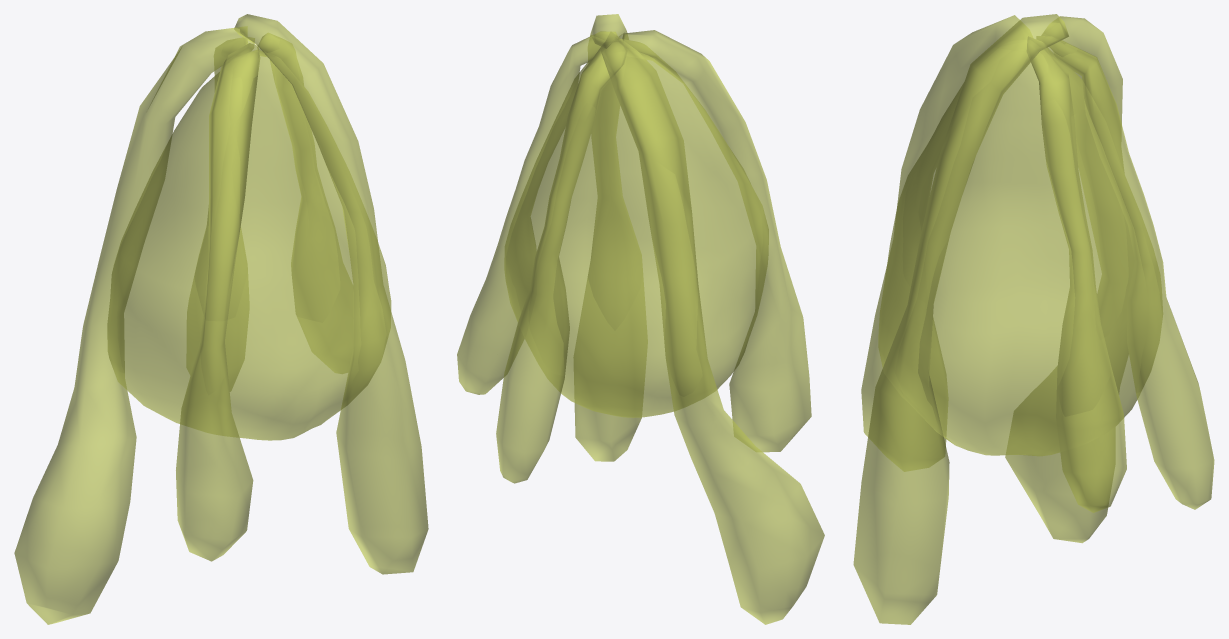
The model's file is Spit.fbx.
3 views of the same model, side by side, from view 1: azimuth 30°, elevation 25°; view 2: azimuth 150°, elevation 25°; view 3: azimuth 270°, elevation 25° (orthographic). The views are drawn at different scales.
Visible parts, largest first — view 1: babas.001; view 2: babas.001; view 3: babas.001.
Part boxes in pixels (x1,y1,x2,y2): babas.001: [14, 14, 428, 624]; babas.001: [457, 14, 824, 624]; babas.001: [853, 14, 1214, 624].
Bounding box in the file's own units: 14.48 × 22.48 × 11.84.
